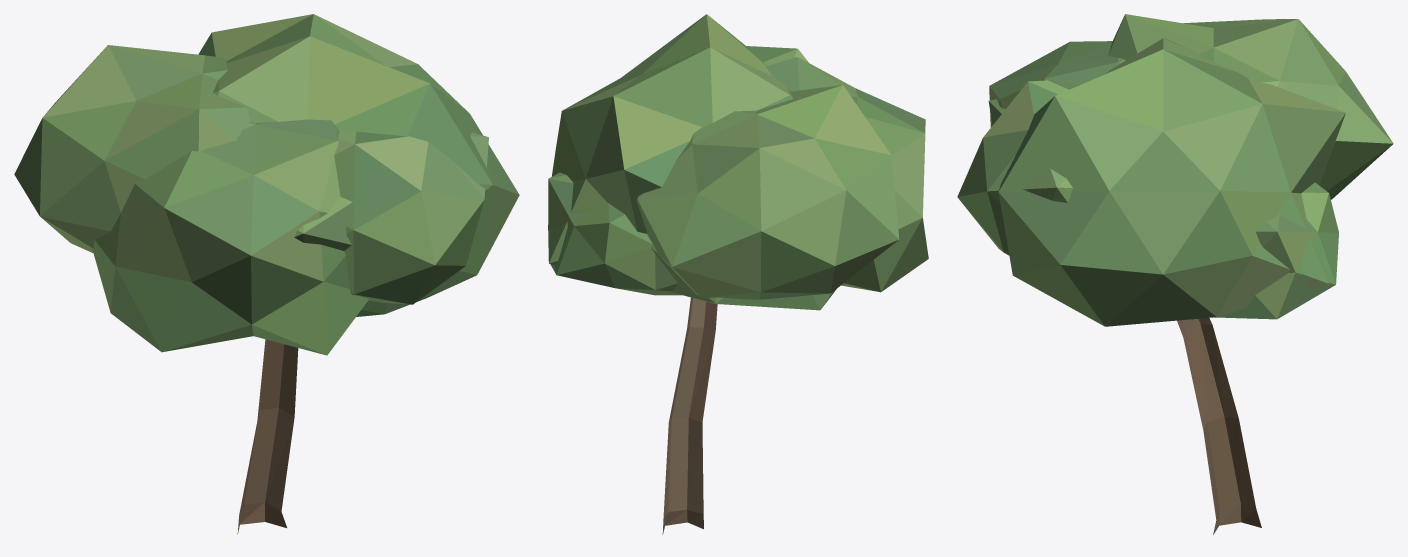
Rendered from Tree_Broadleaf_05.glb.
3 renders of one model, left to right at view 1: azimuth 30°, elevation 25°; view 2: azimuth 150°, elevation 25°; view 3: azimuth 270°, elevation 25°, orthographic. The views are drawn at different scales.
Visible parts, largest first — view 1: Tree_Broadleaf_05; view 2: Tree_Broadleaf_05; view 3: Tree_Broadleaf_05.
Boxes of the visible parts, x1,y1,x2,y2 form: Tree_Broadleaf_05: [14, 14, 519, 534]; Tree_Broadleaf_05: [548, 14, 928, 534]; Tree_Broadleaf_05: [957, 14, 1393, 534].
Bounding box in the file's own units: 6.89 × 8.22 × 6.68.
